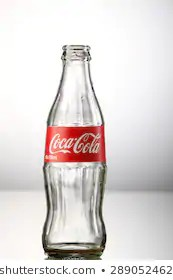coke-glass-bottle: (35, 44, 109, 256)
